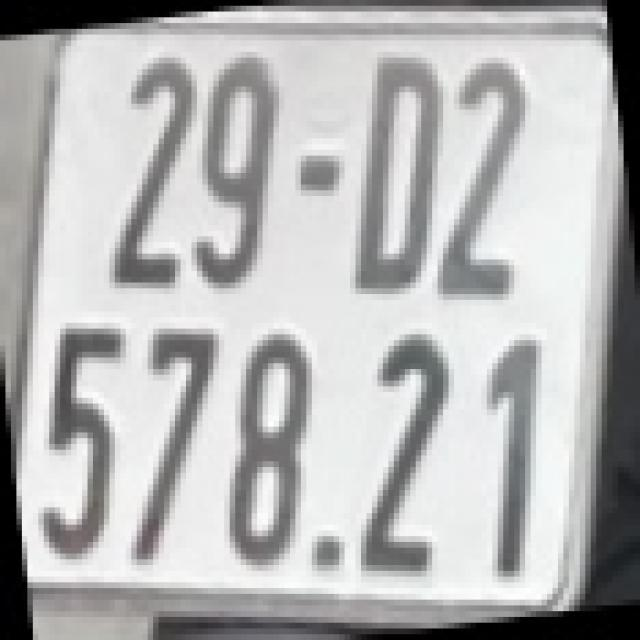1: (476, 328, 547, 582)
2: (361, 328, 449, 576), (443, 58, 525, 300), (115, 58, 191, 288)
5: (39, 328, 120, 554)
7: (136, 328, 214, 560)
8: (230, 334, 306, 564)
9: (196, 64, 274, 282)
D: (356, 58, 444, 294)
